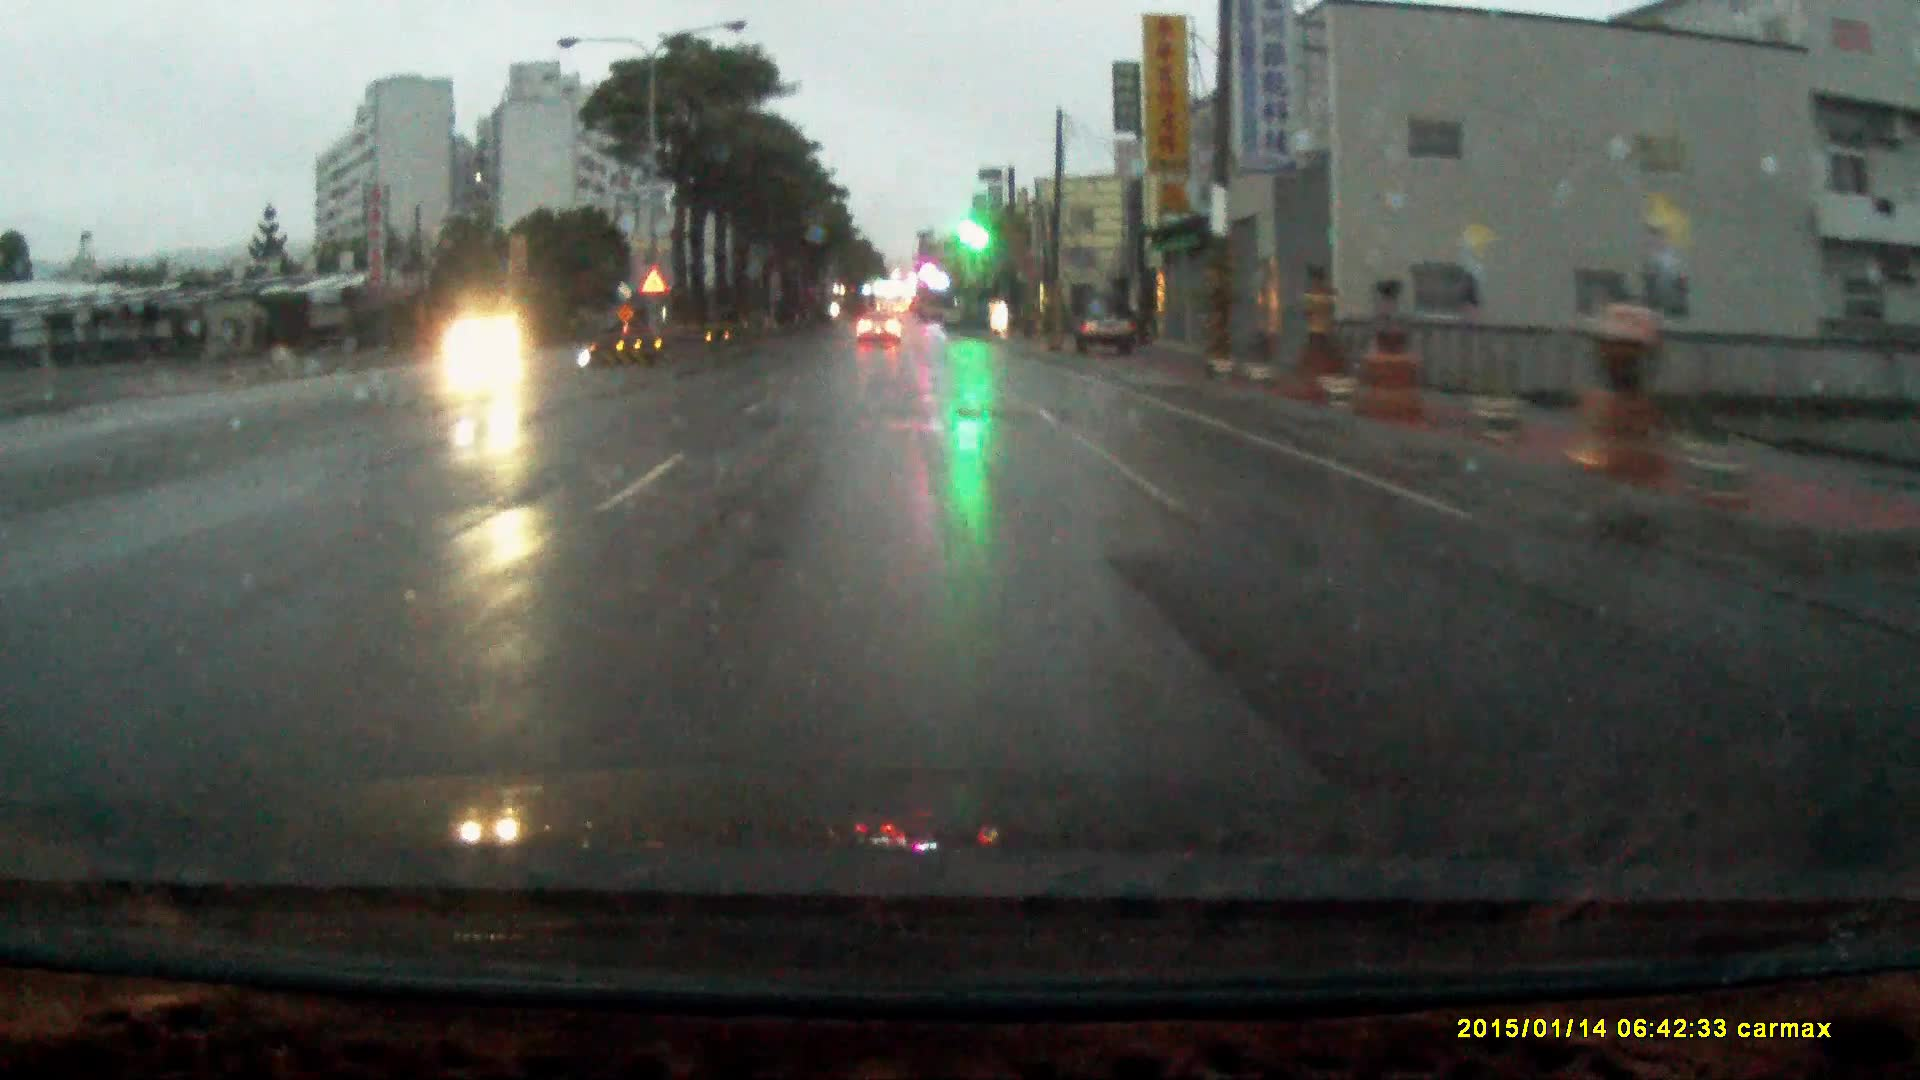vehicle: (1076, 284, 1139, 345), (857, 303, 905, 339)
